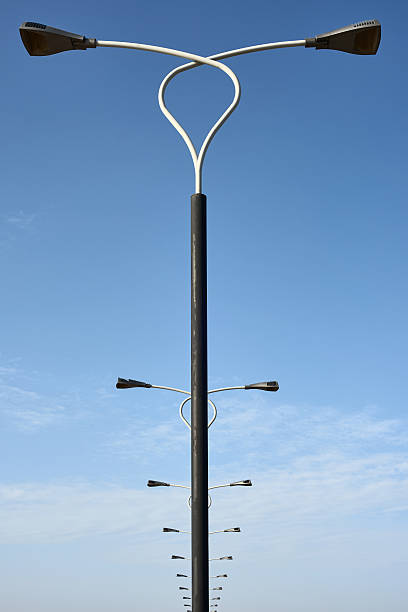light_pole: (181, 194, 220, 610)
